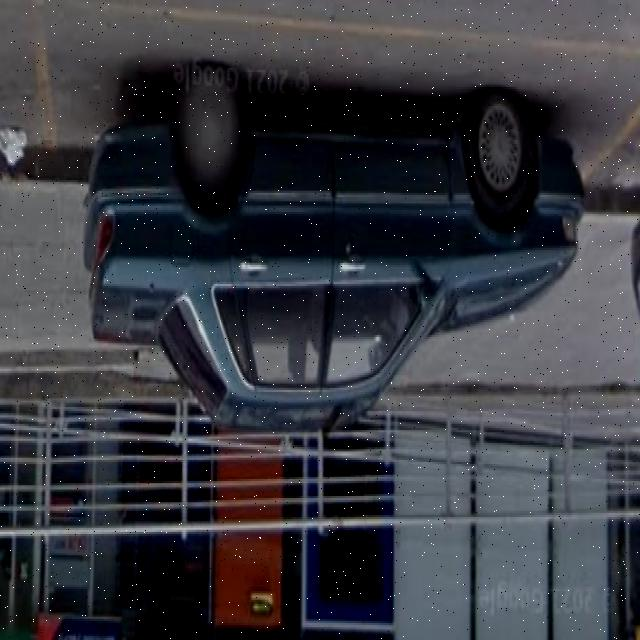car: (84, 81, 575, 428)
